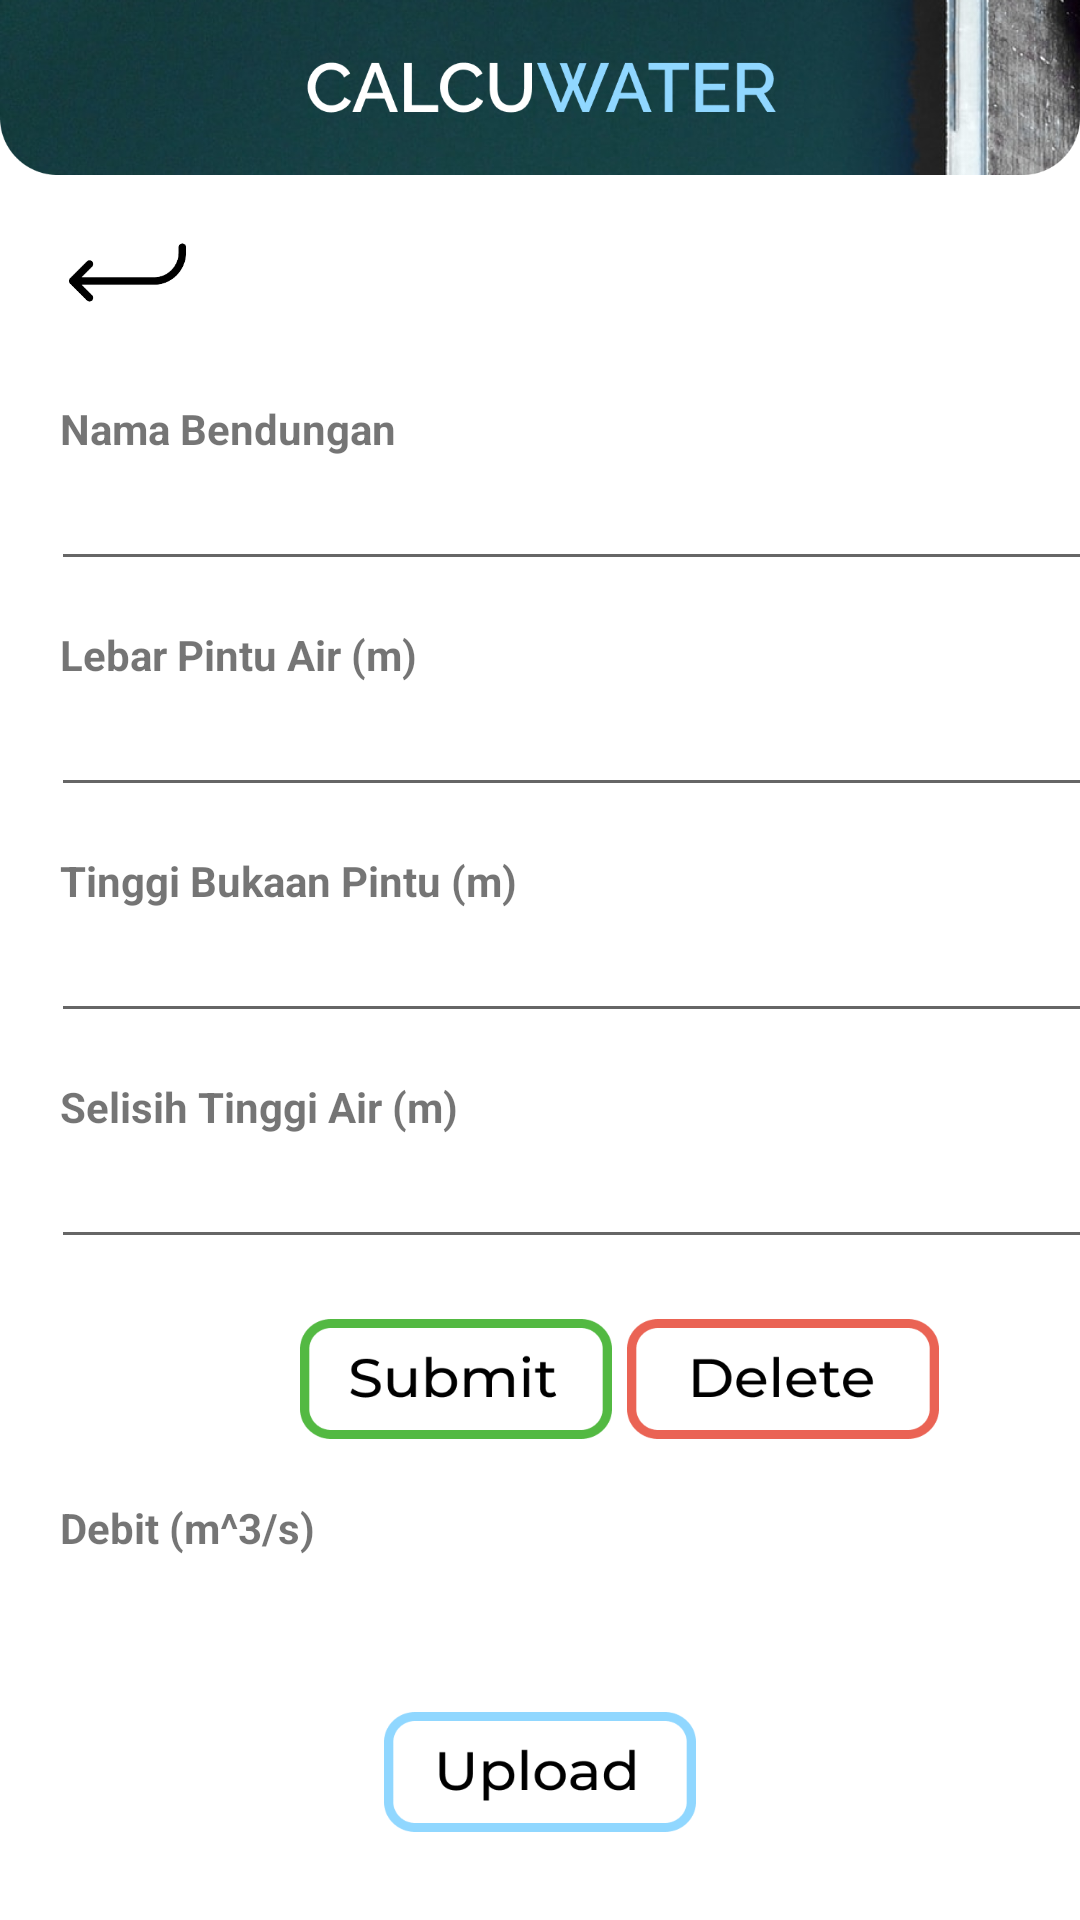

Icon click points for this 1080 × 1920 phone screenshot, format point (x, y):
btnback: point (127, 272)
